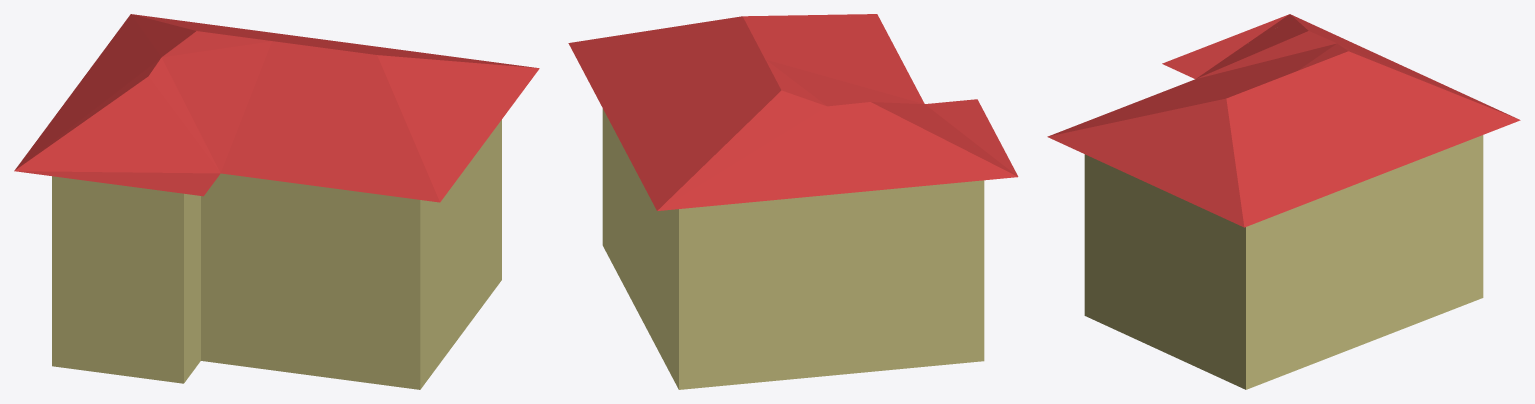
The picture shows the model from 3 angles, left to right: view 1: azimuth 30°, elevation 25°; view 2: azimuth 150°, elevation 25°; view 3: azimuth 270°, elevation 25°; orthographic projection. The views are drawn at different scales.
Parts seen in each view (by area): view 1: group_5, group_3, group_4; view 2: group_5, group_3, group_4; view 3: group_5, group_3, group_4.
Part boxes in pixels (x1,y1,x2,y2): group_5: (52, 120, 501, 389); group_3: (14, 14, 536, 202); group_4: (14, 14, 539, 202); group_5: (602, 108, 984, 389); group_3: (568, 14, 1017, 210); group_4: (572, 14, 1017, 210); group_5: (1084, 135, 1483, 389); group_3: (1085, 14, 1518, 227); group_4: (1047, 14, 1520, 227).
Bounding box in the file's own units: 19.03 × 17.85 × 9.7.
